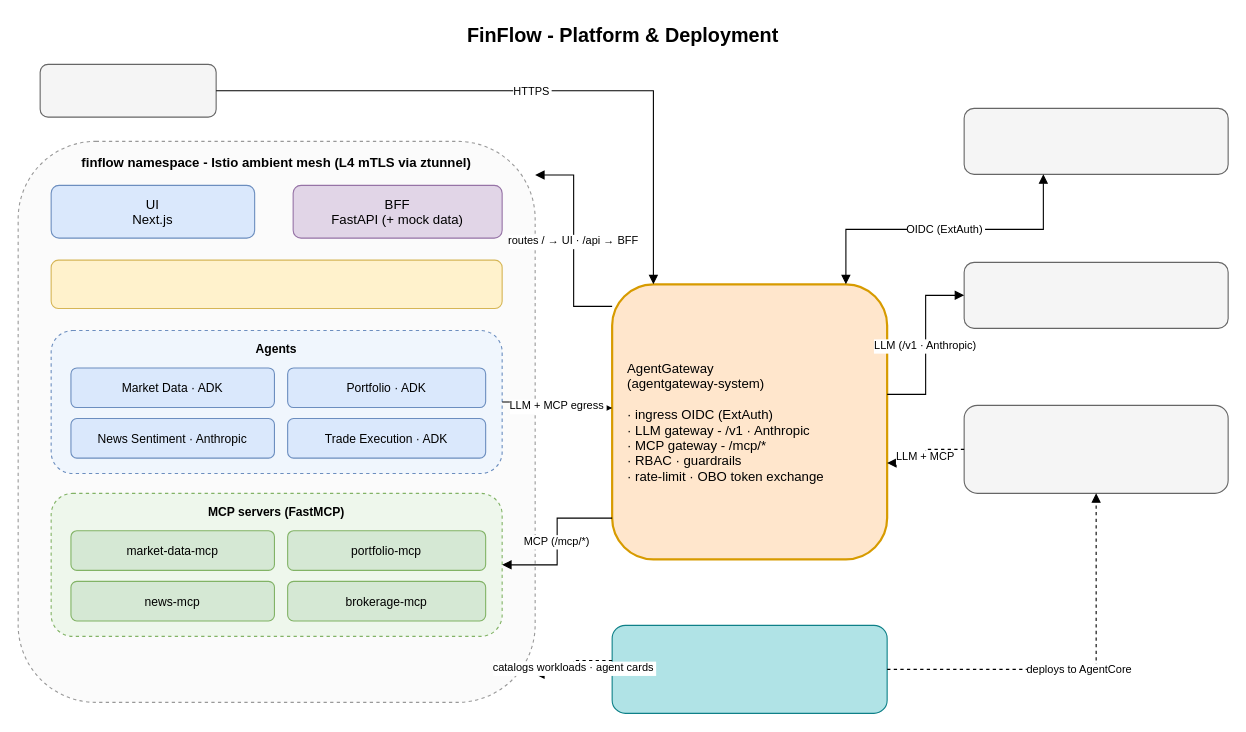
This 1246x732 diagram has some shape labels left out. The shapes that lost their labels are listed below. From the top down, each one's centre as x and y in pixels, then its label:
At point 127,90: "User Browser".
At point 1095,140: "Keycloak OIDC Identity Provider".
At point 276,284: "Orchestrator - custom dispatcher".
At point 1095,294: "LLM provider OpenAI-compatible / Anthropic".
At point 1095,448: "Amazon Bedrock AgentCore optional agent runtime (agents' main.py)".
At point 749,668: "AgentRegistry (agentregistry-system) catalog · arctl · agent cards".
